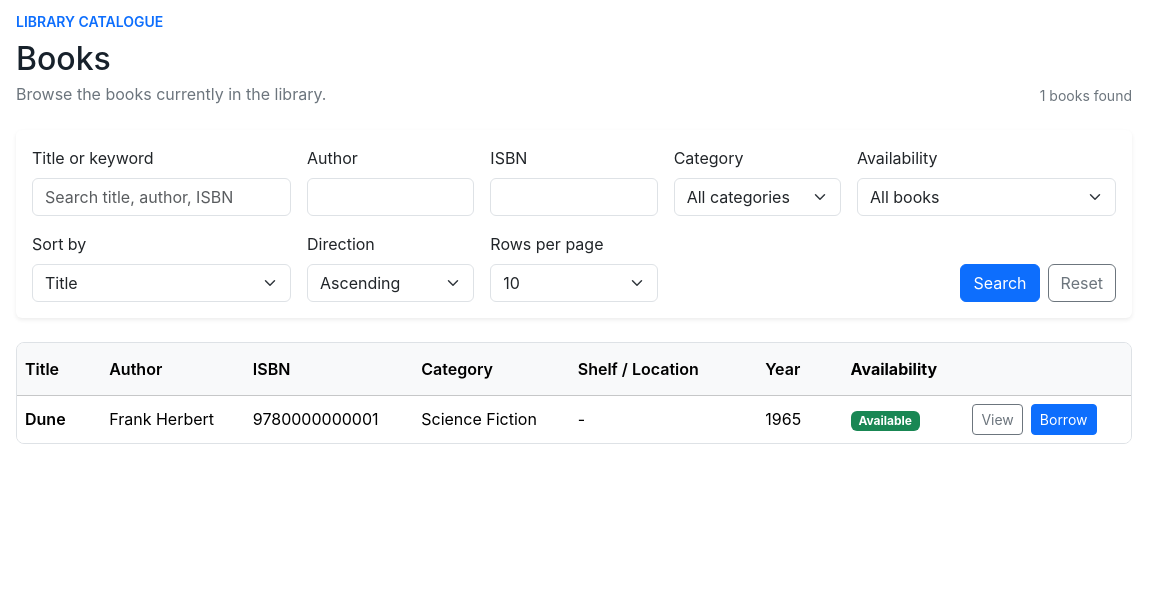
Test case: BookListComponent › shows a safe conflict message when the book became unavailable
The width and height of the screenshot is (1149, 606).
Click the button with aria-label "Borrow Dune": point(1064, 419) [1031,404,1096,435]
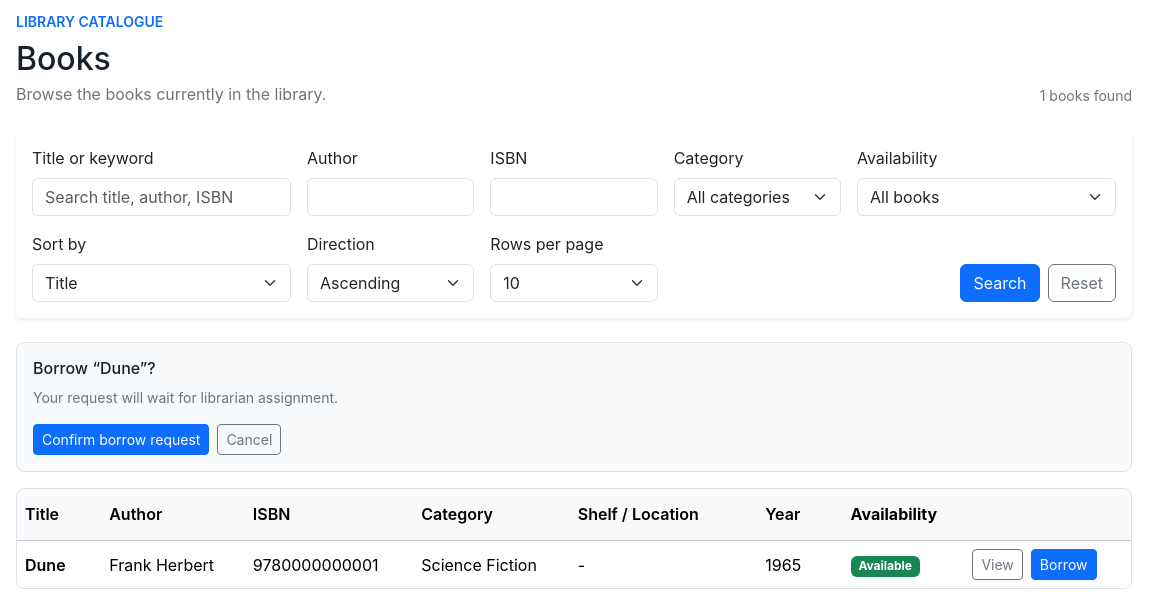
Expected: the button "Confirm borrow request" is shown
Click the button "Confirm borrow request": point(121, 439) [33,424,209,455]
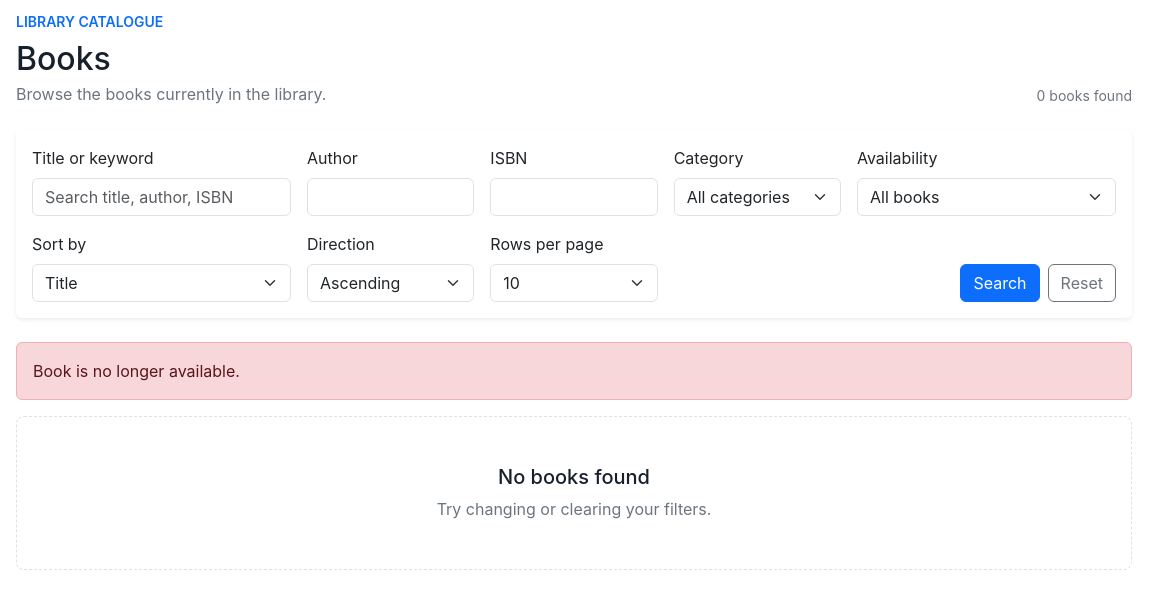
Expected: the text "Book is no longer available." is shown, [16,342,1132,400]
